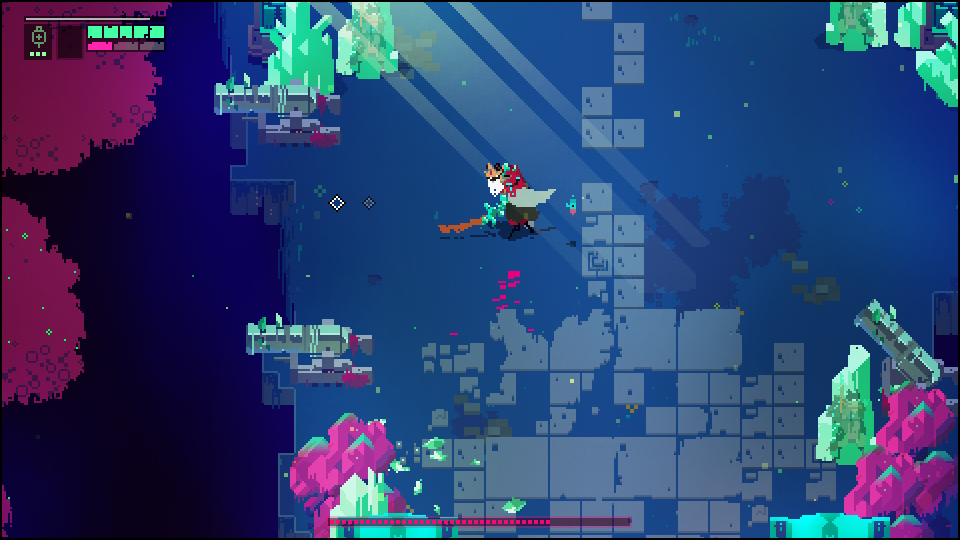hanged_man: (462, 157, 562, 243)
